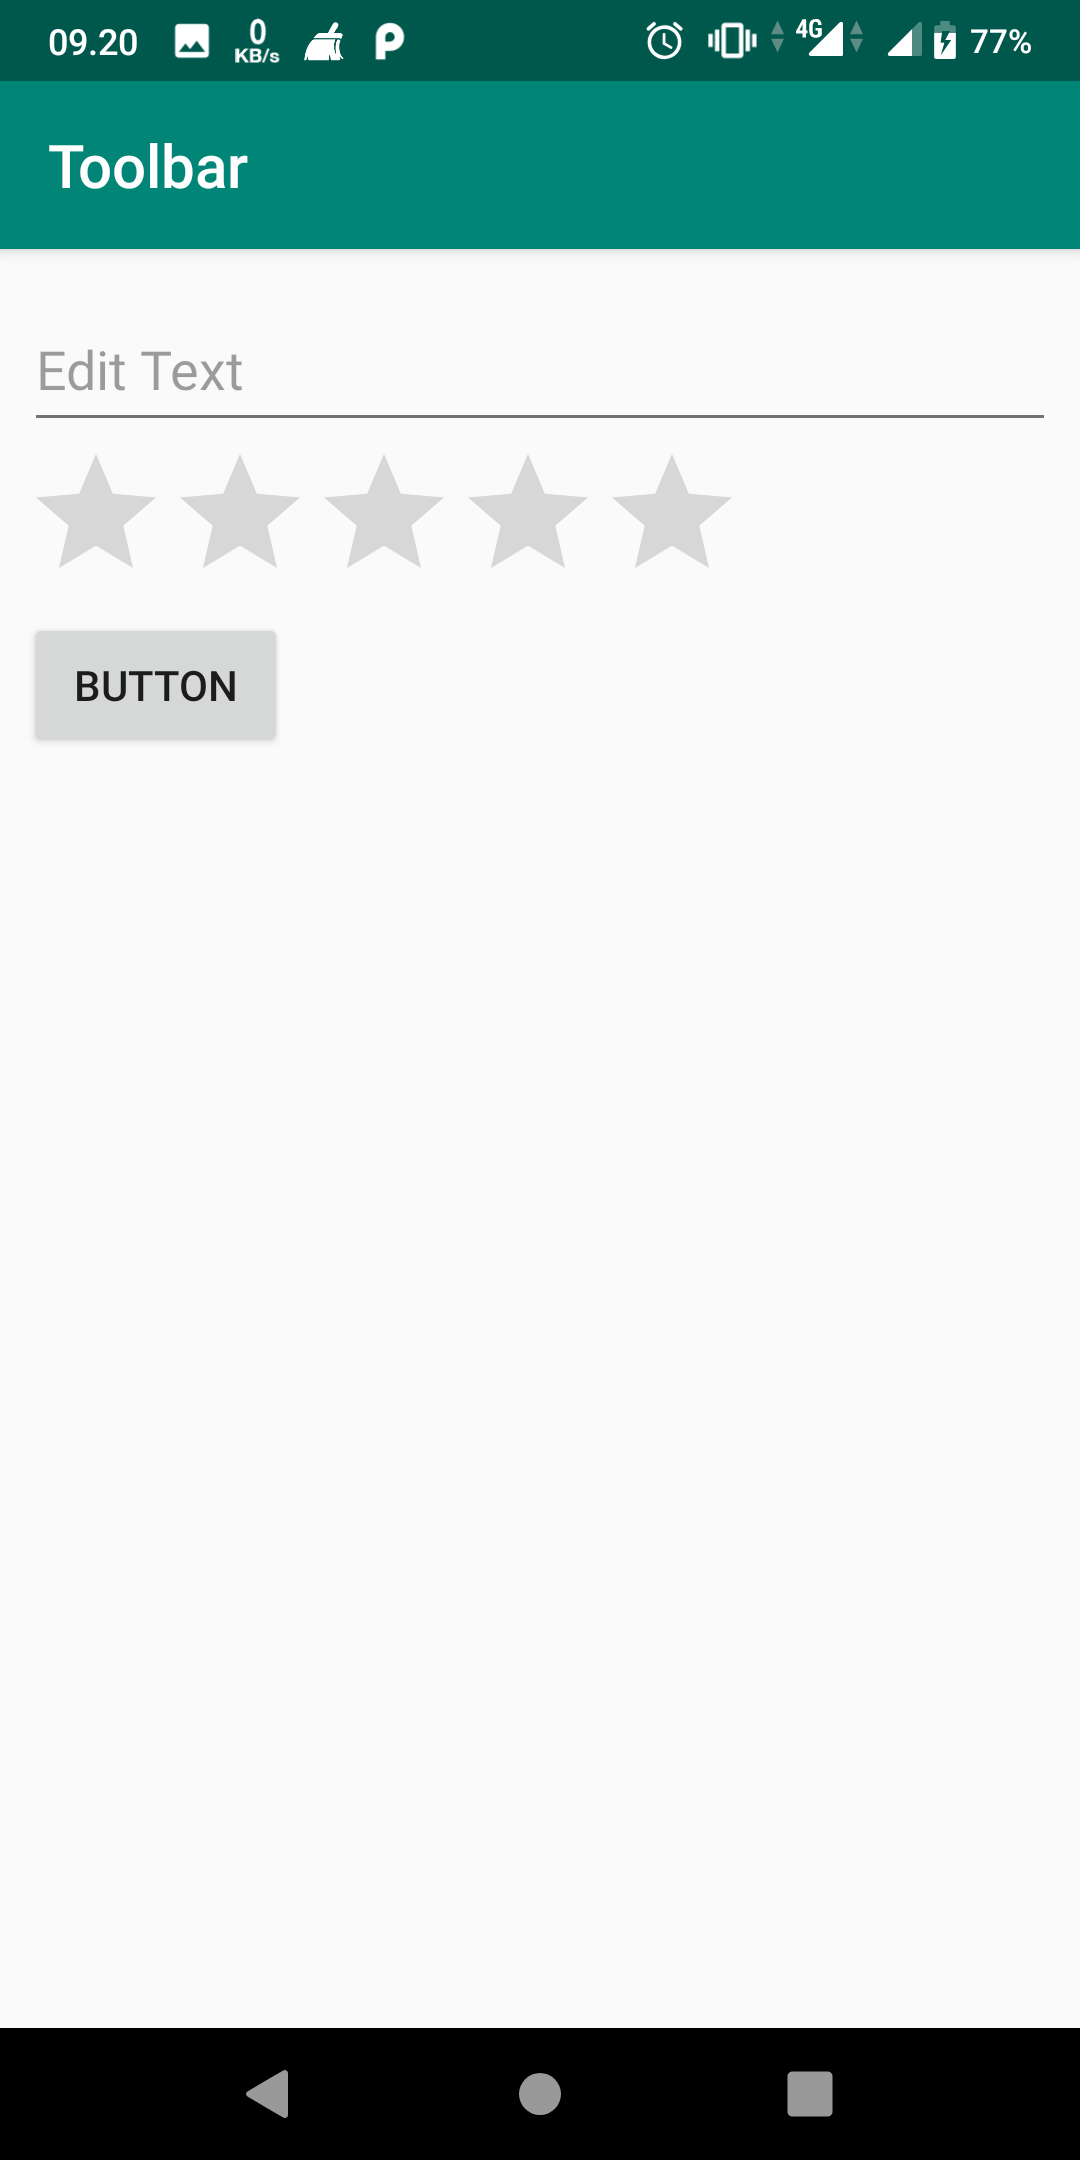button: (19, 623, 291, 760)
editText: (25, 342, 1061, 435)
ratingBar: (28, 450, 744, 580)
toolbar: (6, 85, 1080, 248)
